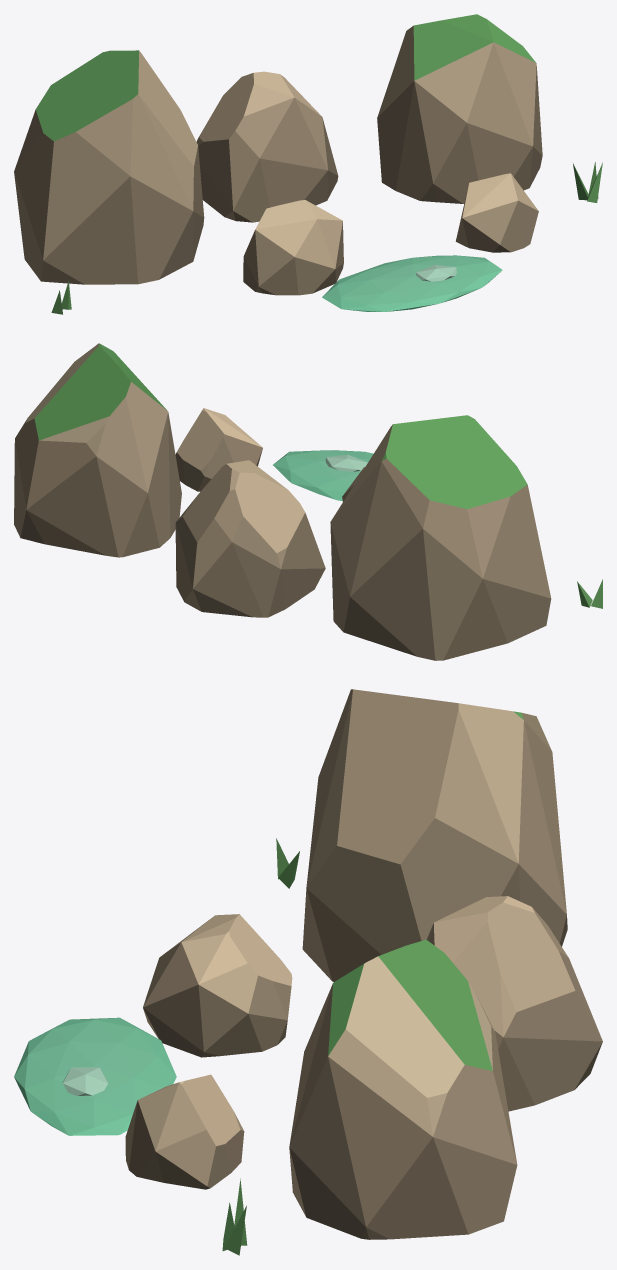
The model's file is ranch_border_rock_cluster.fbx.
3 views of the same model, one above another, from view 1: azimuth 30°, elevation 25°; view 2: azimuth 150°, elevation 25°; view 3: azimuth 270°, elevation 25° (orthographic). The views are drawn at different scales.
Parts seen in each view (by area): view 1: ranch_border_rock_cluster; view 2: ranch_border_rock_cluster; view 3: ranch_border_rock_cluster.
Part boxes in pixels (x1,y1,x2,y2): ranch_border_rock_cluster: (14, 14, 602, 314); ranch_border_rock_cluster: (14, 343, 602, 660); ranch_border_rock_cluster: (14, 689, 602, 1255).
Size of the model in its own units: 14.18 by 4.76 by 9.21.
